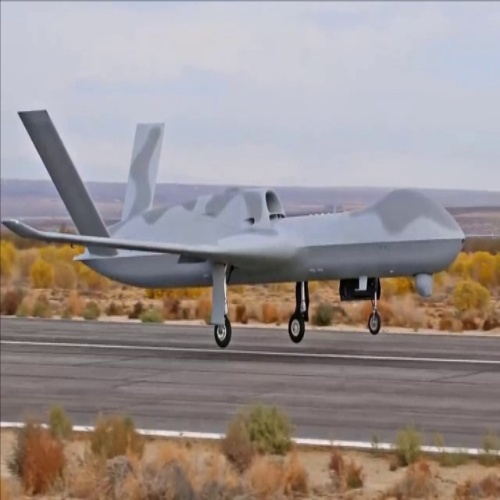uav960: (1, 108, 474, 349)
